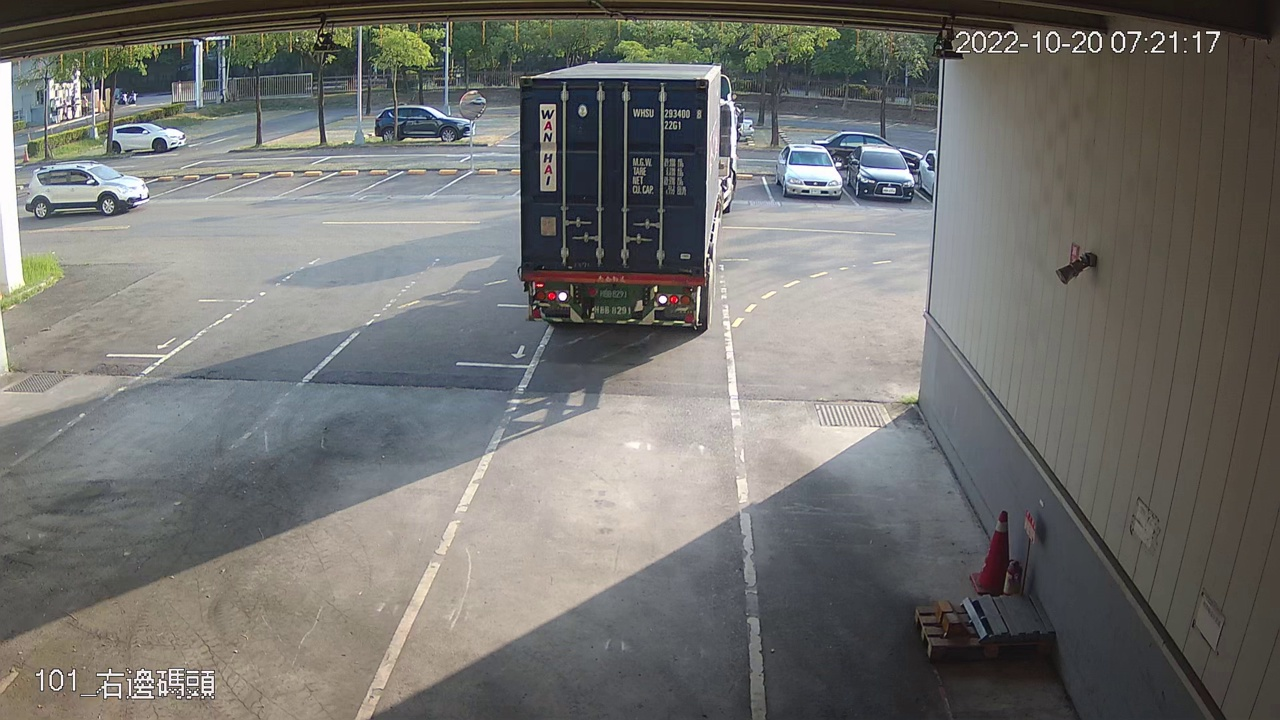container: (631, 103, 705, 136)
